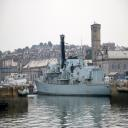Fragata: (34, 34, 114, 99)
